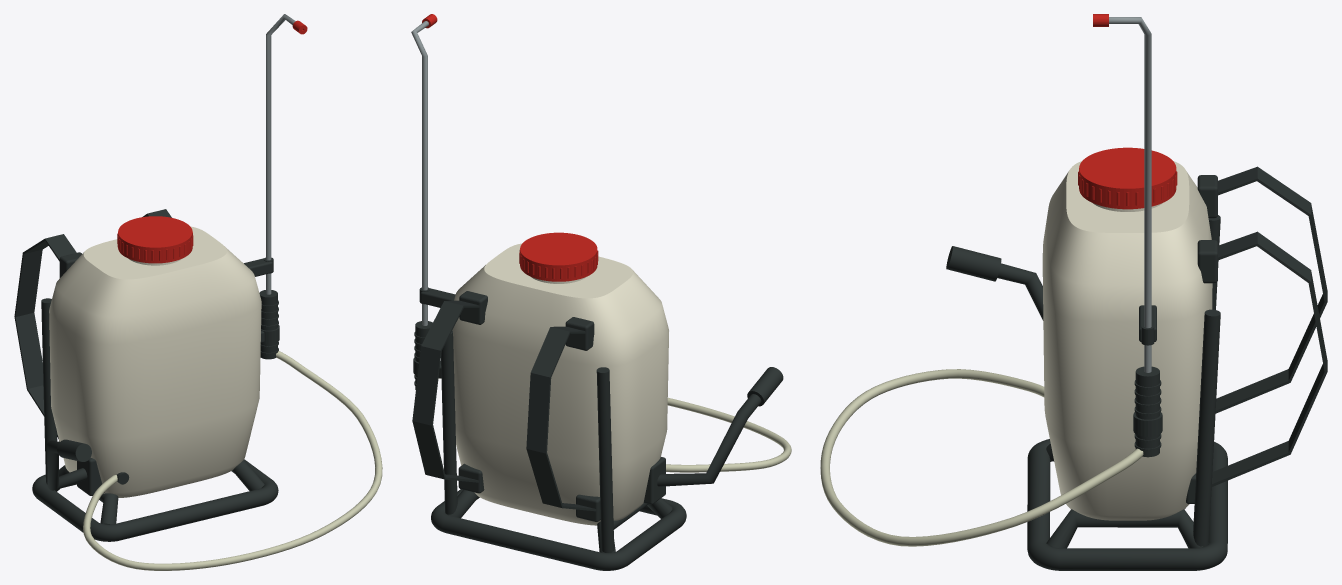
File: A-NEW-20261026-BACKPACK-SPRAYER-001_LOD0_R2.glb
3 views of the same model, side by side, from view 1: azimuth 30°, elevation 25°; view 2: azimuth 150°, elevation 25°; view 3: azimuth 270°, elevation 25° (orthographic). The views are drawn at different scales.
Visible parts, largest first — view 1: closed tapered tank, closed tubular ground frame, flexible hose, independent shoulder strap -1, red screw cap, slim spray wand, back frame upright -1, bent manual pump lever, wand ribbed grip, lever hand grip, tank support rail -1, pump lever lower mount (+1 smaller); view 2: closed tapered tank, closed tubular ground frame, independent shoulder strap -1, independent shoulder strap 1, red screw cap, back frame upright -1, back frame upright 1, flexible hose, bent manual pump lever, slim spray wand, upper strap tab -1, upper strap tab 1 (+5 smaller); view 3: closed tapered tank, closed tubular ground frame, flexible hose, red screw cap, back frame upright 1, independent shoulder strap 1, independent shoulder strap -1, slim spray wand, tank support rail 1, wand ribbed grip, lever hand grip, bent manual pump lever (+2 smaller).
Part boxes in pixels (x1,y1,x2,y2): closed tapered tank: [49, 226, 261, 497]; closed tubular ground frame: [32, 459, 278, 541]; flexible hose: [83, 351, 382, 570]; independent shoulder strap -1: [14, 234, 76, 439]; red screw cap: [118, 216, 192, 263]; slim spray wand: [266, 14, 295, 294]; back frame upright -1: [41, 298, 57, 481]; bent manual pump lever: [46, 440, 87, 490]; wand ribbed grip: [259, 290, 277, 359]; lever hand grip: [57, 439, 91, 461]; tank support rail -1: [46, 465, 118, 524]; pump lever lower mount: [77, 457, 104, 495]; closed tapered tank: [452, 243, 668, 525]; closed tubular ground frame: [431, 489, 686, 570]; independent shoulder strap -1: [526, 326, 596, 511]; independent shoulder strap 1: [412, 300, 479, 482]; red screw cap: [520, 232, 597, 281]; back frame upright -1: [596, 367, 614, 552]; back frame upright 1: [441, 330, 457, 514]; flexible hose: [438, 378, 791, 472]; bent manual pump lever: [657, 394, 761, 486]; slim spray wand: [411, 21, 428, 325]; upper strap tab -1: [565, 317, 594, 350]; upper strap tab 1: [459, 291, 487, 324]; closed tapered tank: [1042, 161, 1212, 520]; closed tubular ground frame: [1027, 439, 1227, 570]; flexible hose: [820, 369, 1143, 546]; red screw cap: [1079, 147, 1176, 209]; back frame upright 1: [1193, 309, 1220, 546]; independent shoulder strap 1: [1211, 231, 1327, 486]; independent shoulder strap -1: [1215, 166, 1327, 413]; slim spray wand: [1109, 17, 1151, 372]; tank support rail 1: [1046, 509, 1209, 548]; wand ribbed grip: [1135, 366, 1159, 457]; lever hand grip: [946, 246, 1001, 281]; bent manual pump lever: [997, 263, 1043, 320].
Bounding box in the file's own units: 0.581 × 0.798 × 0.6263.
